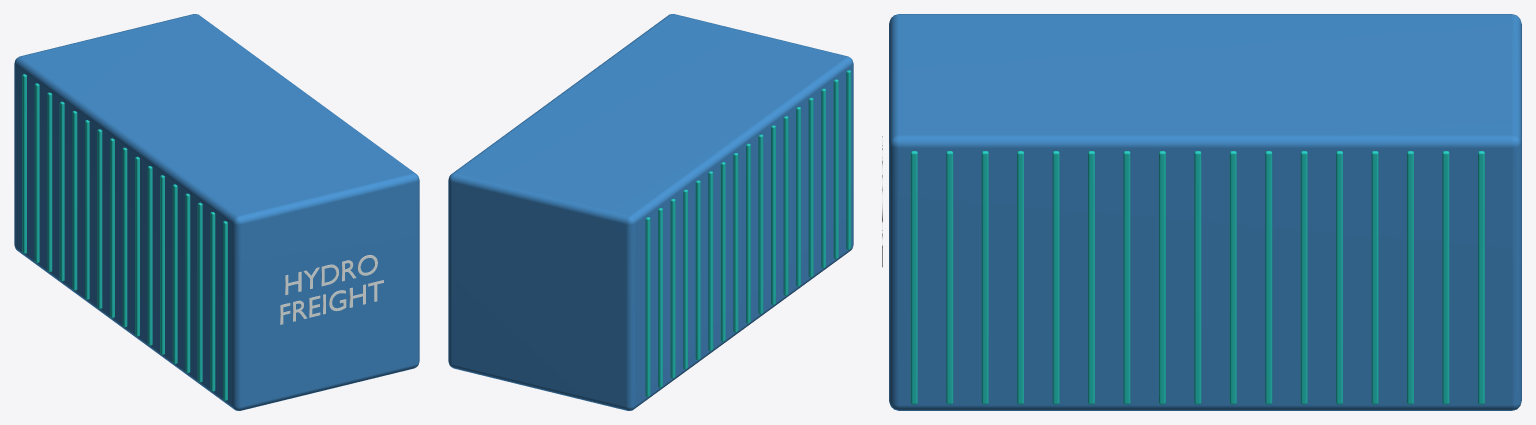
Rendered from Shipping_container_LOD2.glb.
The picture shows the model from 3 angles, left to right: view 1: azimuth 30°, elevation 25°; view 2: azimuth 150°, elevation 25°; view 3: azimuth 270°, elevation 25°; orthographic projection. The views are drawn at different scales.
Parts seen in each view (by area): view 1: Container, Cargo label, Corrugation.004, Corrugation.008, Corrugation.015, Corrugation.001, Corrugation.002, Corrugation.003, Corrugation.012, Corrugation.013, Corrugation.014, Corrugation.006 (+7 smaller); view 2: Container, Corrugation.003, Corrugation.007, Corrugation.014, Corrugation, Corrugation.001, Corrugation.012, Corrugation.005, Corrugation.011, Corrugation.016, Corrugation.009, Corrugation.010 (+6 smaller); view 3: Container, Corrugation.021, Corrugation.030, Corrugation.023, Corrugation.032, Corrugation.019, Corrugation.025, Corrugation.028, Corrugation.017, Corrugation.018, Corrugation.026, Corrugation.027 (+6 smaller).
Boxes of the visible parts, x1,y1,x2,y2 form: Container: (14,14,419,410); Cargo label: (280,255,383,324); Corrugation.004: (172,184,177,364); Corrugation.008: (122,147,127,327); Corrugation.015: (34,83,39,263); Corrugation.001: (210,212,215,391); Corrugation.002: (197,202,202,382); Corrugation.003: (185,193,190,373); Corrugation.012: (72,111,77,290); Corrugation.013: (59,101,64,281); Corrugation.014: (47,92,52,272); Corrugation.006: (147,166,152,345); Container: (448,14,853,410); Corrugation.003: (808,97,813,277); Corrugation.007: (758,134,763,314); Corrugation.014: (670,198,675,378); Corrugation: (846,70,851,249); Corrugation.001: (833,79,838,259); Corrugation.012: (695,180,700,360); Corrugation.005: (783,116,788,295); Corrugation.011: (708,171,713,350); Corrugation.016: (645,217,650,396); Corrugation.009: (733,153,738,332); Corrugation.010: (720,162,725,341); Container: (889,14,1521,410); Corrugation.021: (1052,151,1059,404); Corrugation.030: (1371,151,1378,404); Corrugation.023: (1123,151,1130,404); Corrugation.032: (1442,151,1449,404); Corrugation.019: (981,151,988,404); Corrugation.025: (1194,151,1201,404); Corrugation.028: (1300,151,1307,404); Corrugation.017: (910,151,917,404); Corrugation.018: (946,151,953,404); Corrugation.026: (1229,151,1236,404); Corrugation.027: (1265,151,1272,404).
Size of the model in its own units: 2.49 by 2.4 by 5.05.
